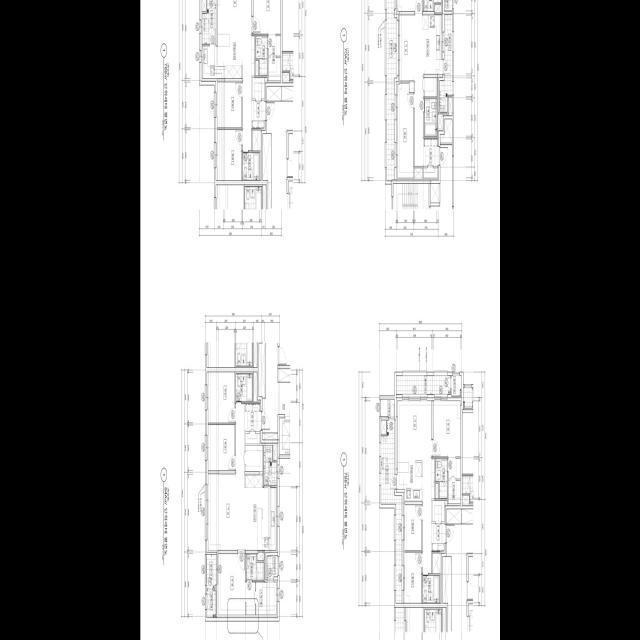background: (140, 0, 500, 640)
space_balconi: (381, 420, 402, 603), (386, 0, 397, 181), (439, 15, 452, 112), (396, 376, 450, 394), (202, 0, 216, 44), (263, 445, 276, 486), (206, 554, 216, 589)
space_bedroom: (218, 554, 245, 615), (397, 83, 413, 178), (433, 401, 460, 457), (208, 372, 234, 423), (217, 130, 241, 180), (208, 425, 234, 471), (217, 82, 241, 128), (253, 0, 280, 34), (404, 553, 421, 603), (404, 505, 421, 550), (397, 0, 422, 11)
space_dressroom: (246, 582, 276, 615), (268, 36, 280, 81), (448, 458, 460, 503)
space_front: (423, 139, 439, 178), (245, 404, 261, 432), (251, 101, 266, 128), (431, 524, 445, 551)
space_kitchen: (245, 475, 276, 550), (202, 46, 242, 78), (423, 15, 443, 74), (397, 461, 422, 501)
space_living_room: (397, 401, 434, 574), (217, 0, 254, 151), (208, 404, 245, 550), (399, 15, 423, 166)
space_other: (245, 445, 262, 471), (440, 119, 452, 143), (252, 78, 264, 99), (432, 501, 444, 522), (424, 78, 437, 97), (267, 556, 277, 580), (381, 399, 394, 417), (266, 86, 281, 101), (430, 184, 440, 203), (432, 553, 440, 574), (252, 130, 260, 151), (245, 434, 260, 444), (262, 433, 277, 440), (253, 372, 256, 402), (444, 0, 452, 11), (414, 168, 422, 178), (437, 114, 442, 129), (448, 97, 452, 115), (381, 420, 386, 434), (257, 552, 264, 561), (434, 5, 441, 13), (435, 484, 438, 499), (273, 445, 276, 460), (255, 61, 258, 76), (202, 0, 206, 11)
space_outdoor_room: (206, 591, 216, 618), (451, 376, 461, 396)
space_toilet: (424, 99, 437, 137), (435, 459, 447, 499), (255, 36, 267, 76), (422, 575, 439, 603), (242, 152, 259, 180), (235, 374, 252, 402), (246, 554, 264, 580), (423, 0, 441, 11)
